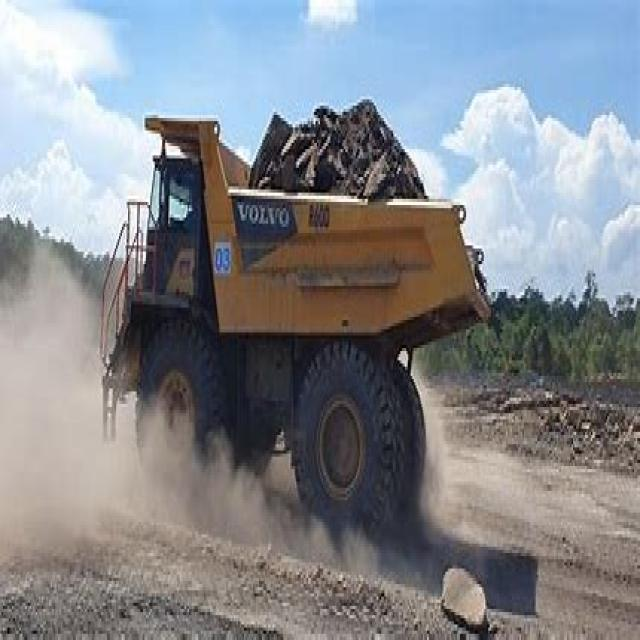dump_truck: (94, 56, 485, 562)
